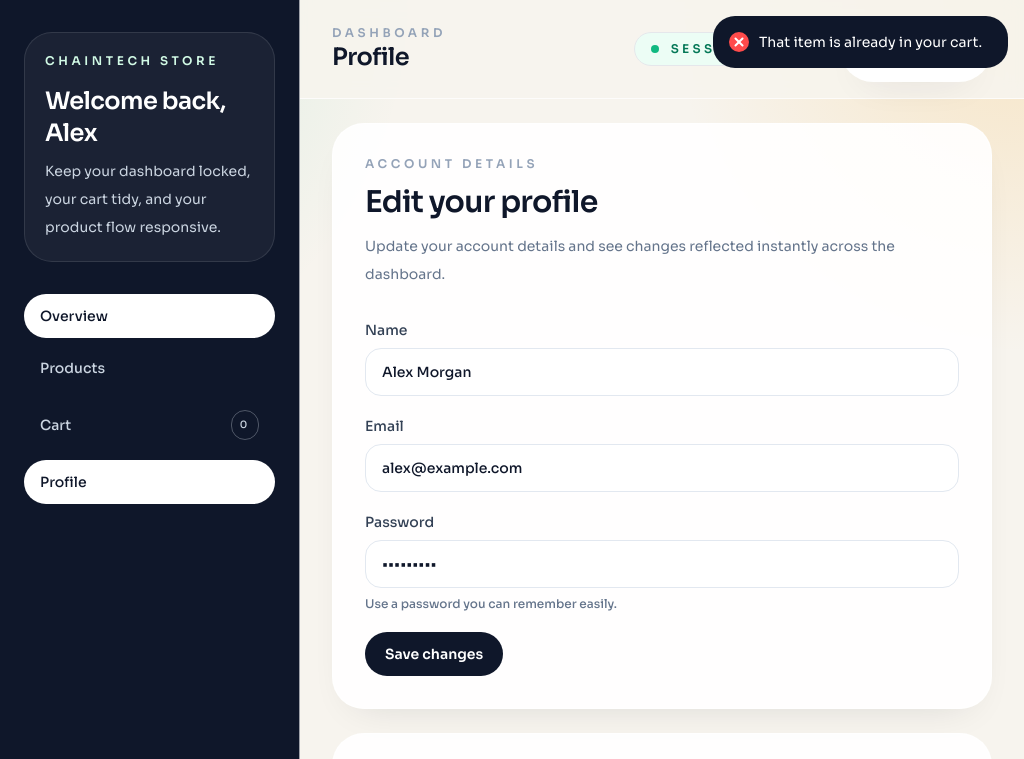
Test case: app integration flows › updates the user profile and rejects duplicate emails
The width and height of the screenshot is (1024, 759).
Replace the text in the field labelled "Name" with "Alex Rivers" at (662, 372), box left=365, top=348, right=959, bottom=396
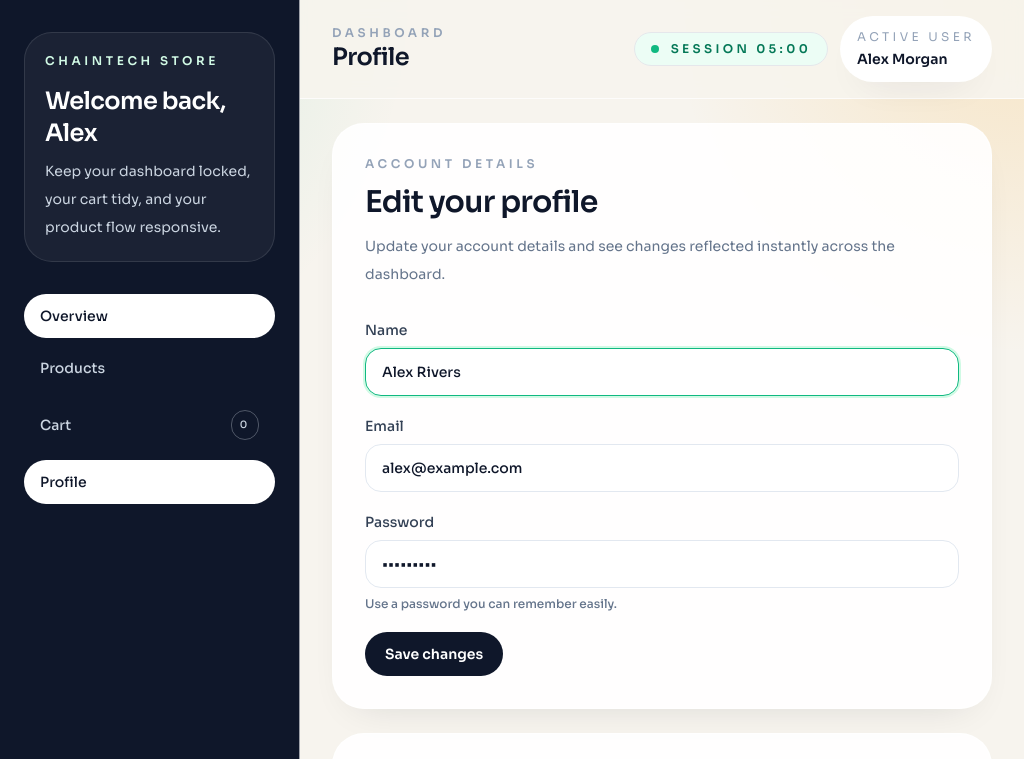
Replace the text in the field labelled "Email" with "jordan@example.com" at (662, 468), box left=365, top=444, right=959, bottom=492
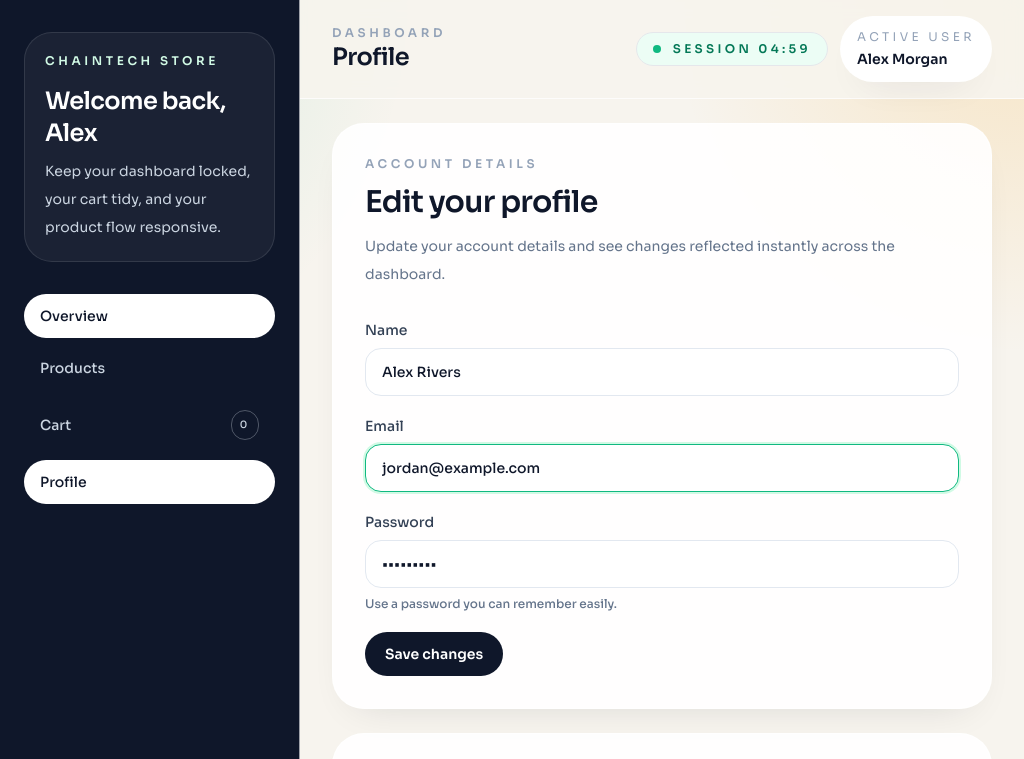
Click the button "Save changes" at (434, 654), box left=365, top=632, right=503, bottom=676
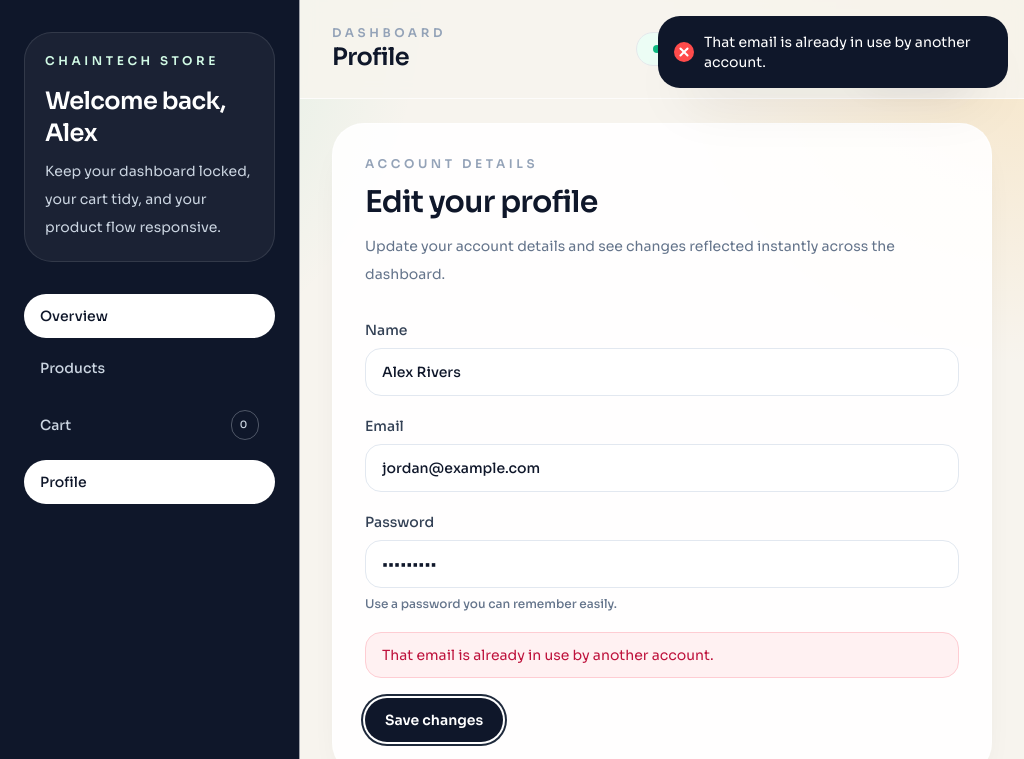
Replace the text in the field labelled "Email" with "alex.rivers@example.com" at (662, 468), box left=365, top=444, right=959, bottom=492
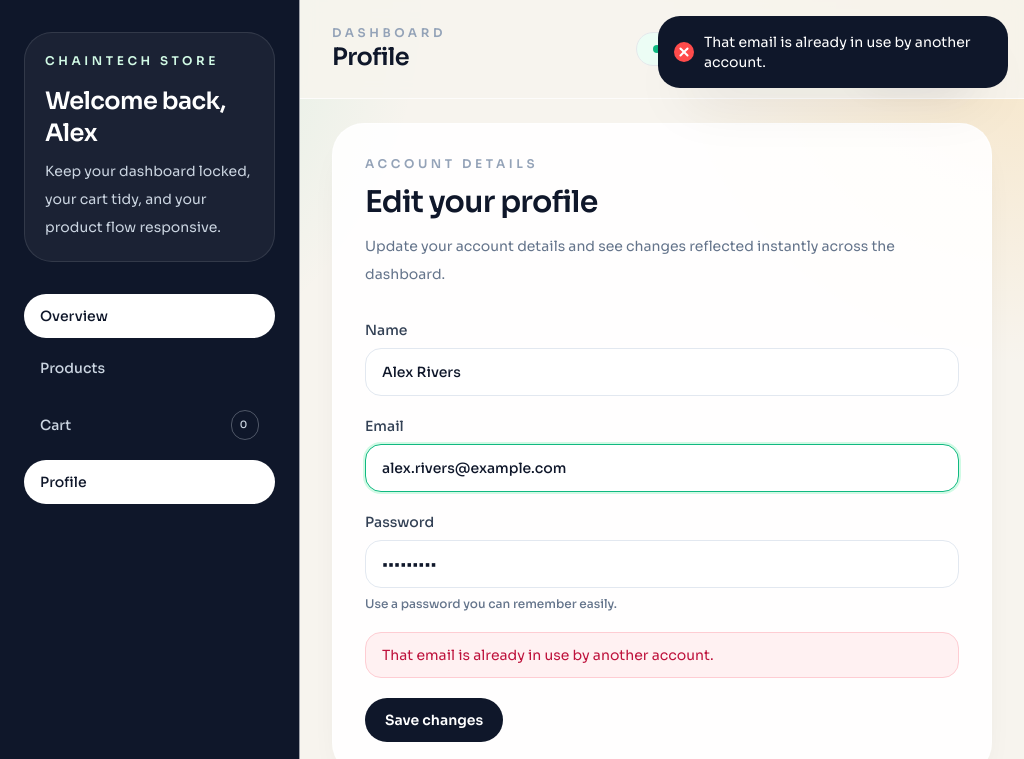
Type "updated123" into the password field labelled "Password Use a password you can remember easily." at (662, 564), box left=365, top=540, right=959, bottom=588
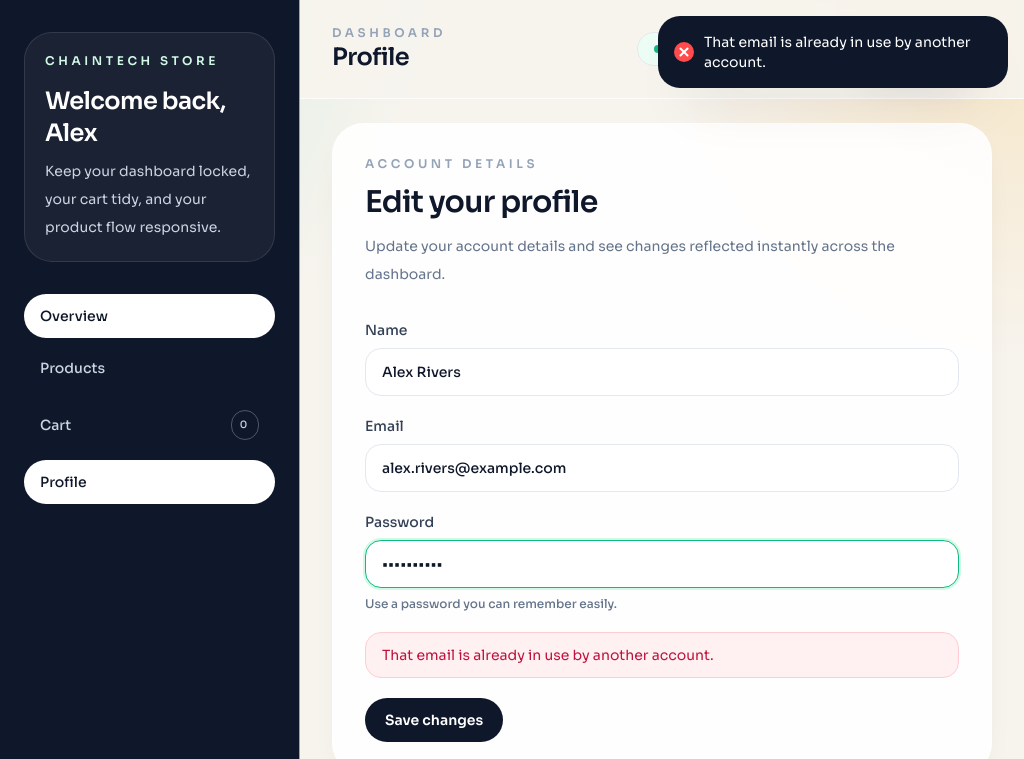
Click the button "Save changes" at (434, 720), box left=365, top=698, right=503, bottom=742
(page scrolled)
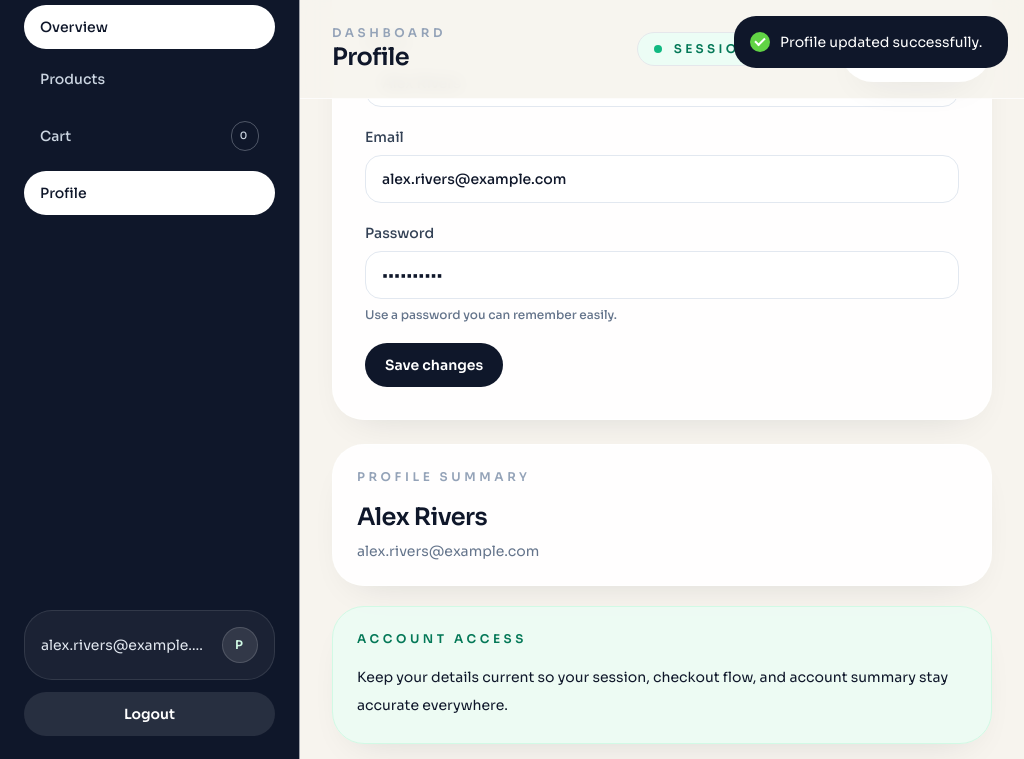
Check: the text "Profile updated successfully." is shown, box left=780, top=32, right=982, bottom=52
Check: the text "Alex Rivers" is shown, box left=857, top=50, right=937, bottom=68
Check: the 2nd text "alex.rivers@example.com" is shown, box left=41, top=635, right=210, bottom=655
